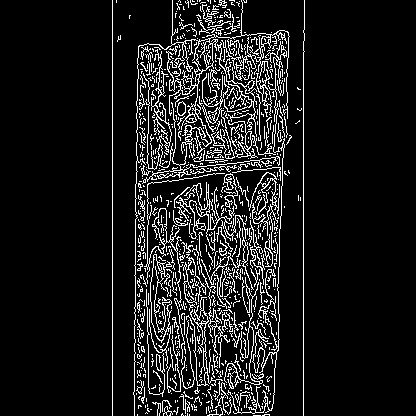buddha-sitting: (194, 39, 236, 157), (211, 175, 252, 268)
